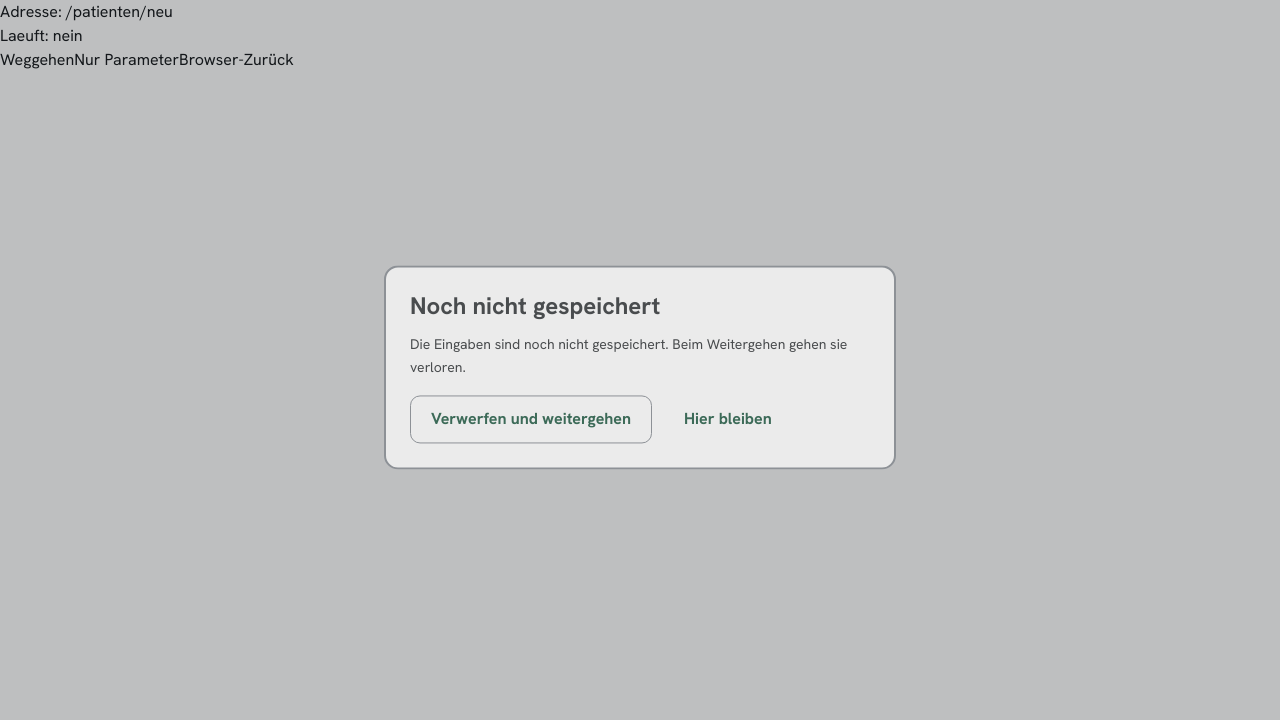
Test: Textverlustschutz: eigene Texte fuer Formulare ohne Dokumentation › nimmt eine eigene Bezeichnung an
Click the link "Weggehen".
click(37, 60)  # box [0,49,74,70]
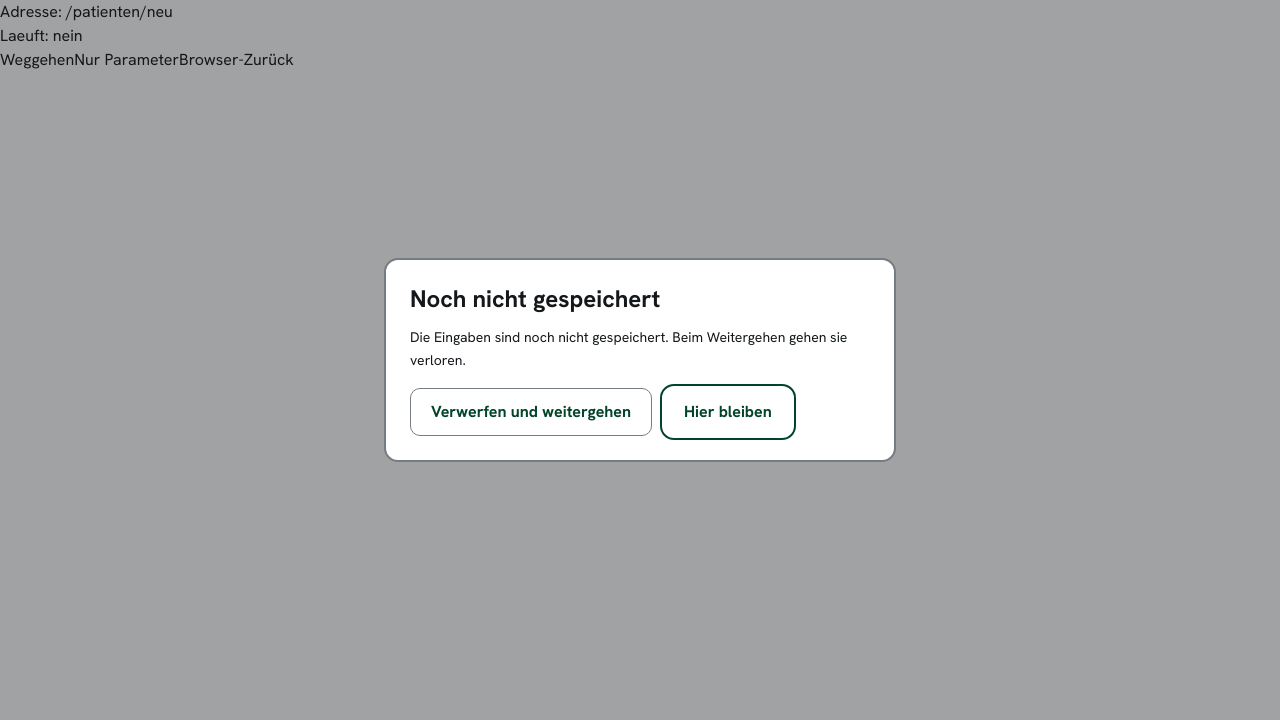
Check: the element named "Ungespeicherte Patientendaten" is shown, box [410,326,870,436]
